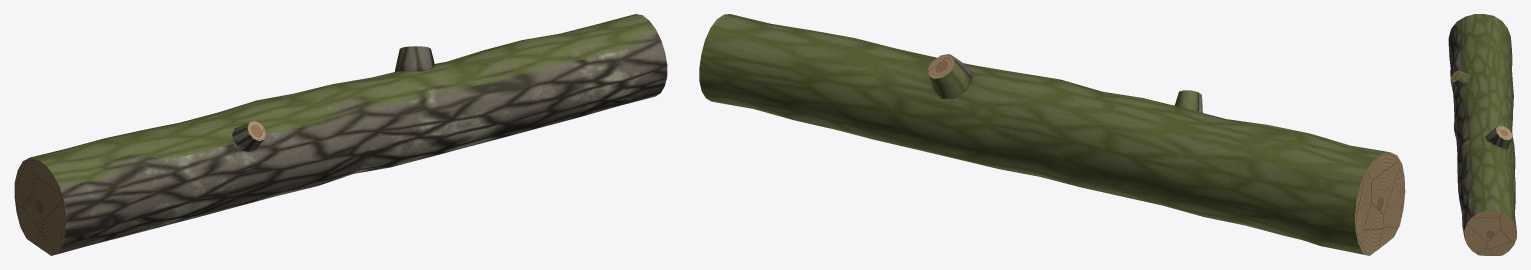
File: log.glb
The picture shows the model from 3 angles, left to right: view 1: azimuth 30°, elevation 25°; view 2: azimuth 150°, elevation 25°; view 3: azimuth 270°, elevation 25°; orthographic projection. The views are drawn at different scales.
Parts seen in each view (by area): view 1: log_LOD0; view 2: log_LOD0; view 3: log_LOD0.
Boxes of the visible parts, left/top/right/bottom form: log_LOD0: left=14, top=14, right=667, bottom=255; log_LOD0: left=699, top=14, right=1405, bottom=255; log_LOD0: left=1448, top=14, right=1516, bottom=255.
Size of what is drawn, in the model's own units: 5.03 by 0.7415 by 0.8358.
Materials: 1 (1 with a texture image).
